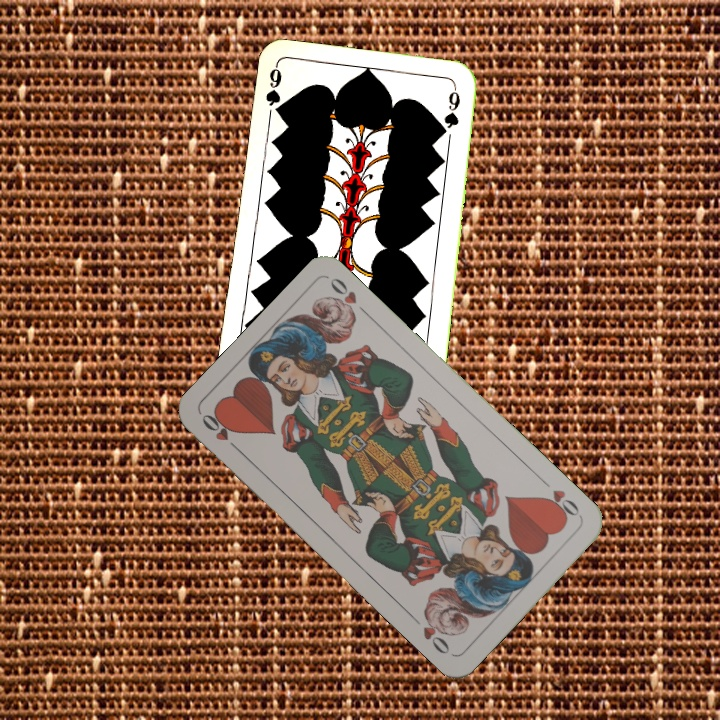G9: (261, 63, 284, 108)
HO: (197, 408, 245, 456), (537, 475, 582, 523)
